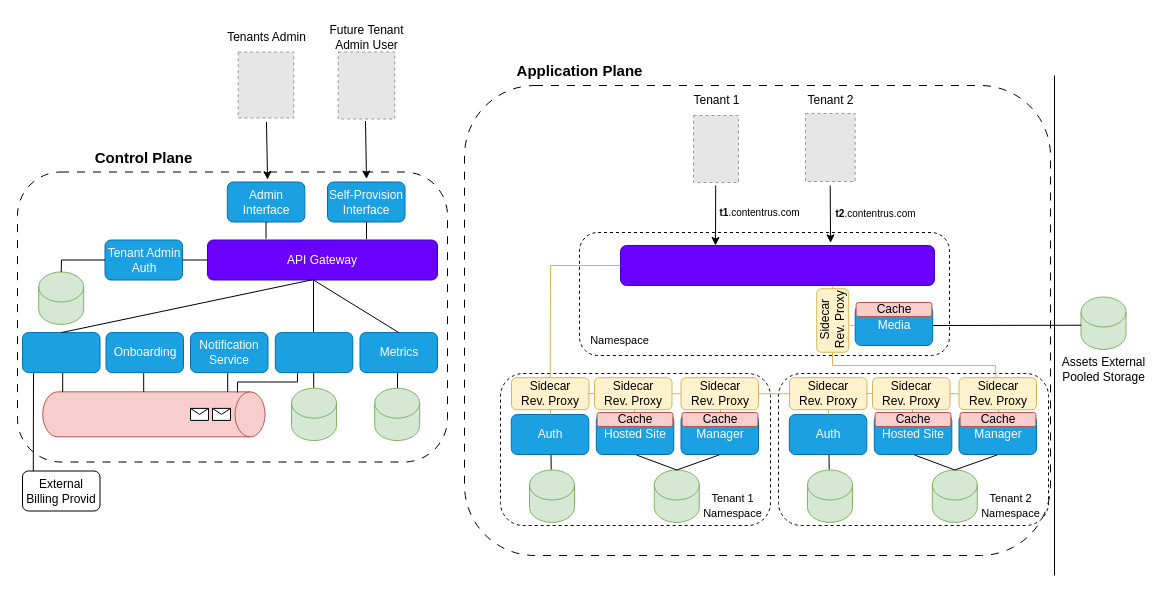
This 1176x594 diagram has some shape labels left out. Grey dashed boxes stand in for pictures. The centre of each missing label's shape, as x and y in pixels:
Billing: the point at 61,352
Ingress Gateway (edge proxy for incoming traffic): the point at 777,265
Tenant Management: the point at 313,352
